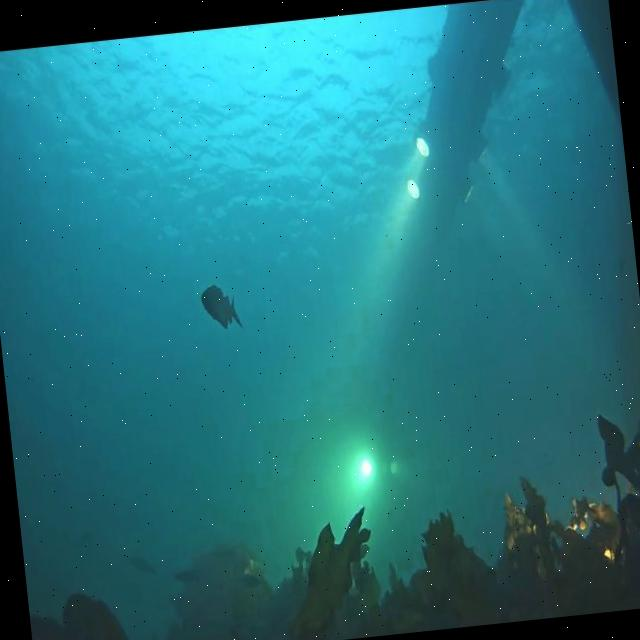fish: (198, 284, 240, 334), (132, 554, 154, 580), (234, 570, 259, 591), (172, 569, 200, 586)
